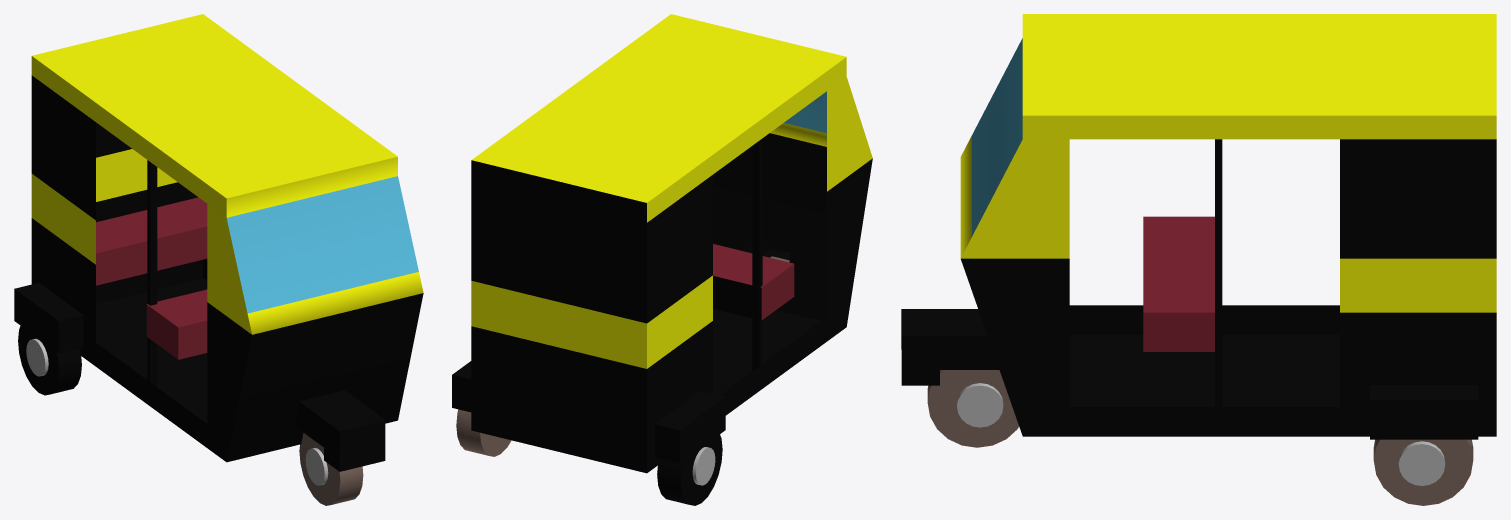
File: Auto.fbx
The picture shows the model from 3 angles, left to right: view 1: azimuth 30°, elevation 25°; view 2: azimuth 150°, elevation 25°; view 3: azimuth 270°, elevation 25°; orthographic projection. The views are drawn at different scales.
Parts seen in each view (by area): view 1: polySurface24; view 2: polySurface24; view 3: polySurface24.
Boxes of the visible parts, x1,y1,x2,y2 form: polySurface24: (14,14,423,505); polySurface24: (452,14,872,505); polySurface24: (901,14,1496,505).
Size of the model in its own units: 3.13 by 4.08 by 5.85.
